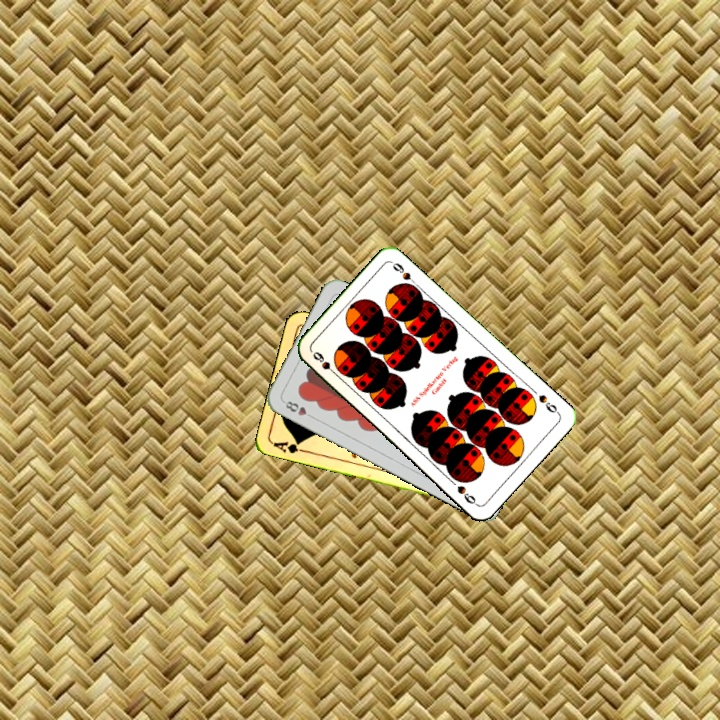GA: (269, 437, 310, 456)
H8: (279, 397, 317, 421)
S9: (308, 347, 341, 379), (535, 390, 562, 417)
